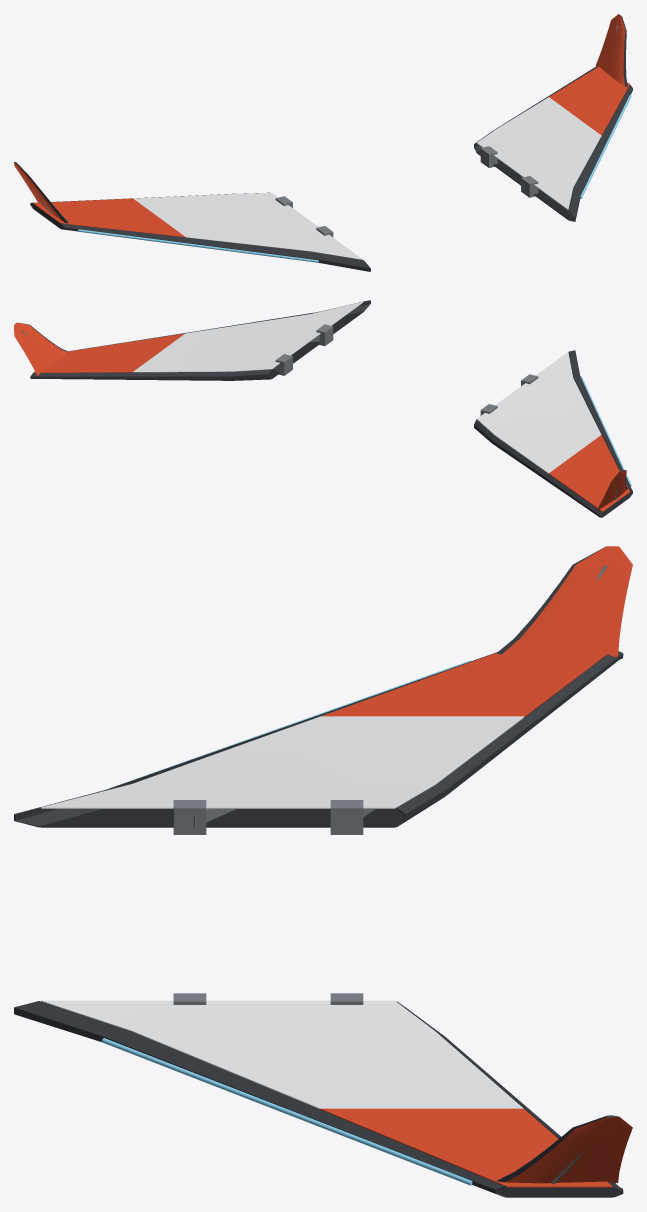
Rendered from vortex_wing_glide.fbx.
3 renders of one model, top to bottom at view 1: azimuth 30°, elevation 25°; view 2: azimuth 150°, elevation 25°; view 3: azimuth 270°, elevation 25°, orthographic. The views are drawn at different scales.
Visible parts, largest first — view 1: Wing_Top_L.001, Wing_Top_R.001, Wing_LE_L.001, Wing_Glide_Extra_R, Wing_Glide_Extra_L, Wing_LE_R.001, Wing_Bottom_R.001, Wing_Structure_R.001; view 2: Wing_Top_L.001, Wing_Top_R.001, Wing_TE_R.001, Wing_Glide_Extra_R, Wing_TE_L.001, Wing_LE_L.001, Wing_Glide_Extra_L, Wing_Structure_R.001, Wing_Bottom_R.001, Wing_LE_R.001; view 3: Wing_Top_R.001, Wing_Top_L.001, Wing_Glide_Extra_L, Wing_Glide_Extra_R, Wing_LE_R.001, Wing_Bottom_L.001, Wing_TE_L.001, Wing_Structure_L.001, Wing_LE_L.001, Wing_Tip_R.001.
Part boxes in pixels (left/top/right/bottom): Wing_Top_L.001: left=33, top=192, right=362, bottom=259; Wing_Top_R.001: left=476, top=66, right=629, bottom=209; Wing_LE_L.001: left=61, top=223, right=370, bottom=271; Wing_Glide_Extra_R: left=580, top=14, right=631, bottom=198; Wing_Glide_Extra_L: left=14, top=161, right=318, bottom=262; Wing_LE_R.001: left=568, top=85, right=632, bottom=221; Wing_Bottom_R.001: left=477, top=91, right=626, bottom=219; Wing_Structure_R.001: left=480, top=94, right=624, bottom=197; Wing_Top_L.001: left=476, top=352, right=629, bottom=511; Wing_Top_R.001: left=33, top=302, right=363, bottom=372; Wing_TE_R.001: left=30, top=369, right=271, bottom=380; Wing_Glide_Extra_R: left=14, top=319, right=272, bottom=375; Wing_TE_L.001: left=474, top=419, right=602, bottom=517; Wing_LE_L.001: left=568, top=350, right=632, bottom=496; Wing_Glide_Extra_L: left=580, top=376, right=631, bottom=511; Wing_Structure_R.001: left=272, top=324, right=333, bottom=375; Wing_Bottom_R.001: left=269, top=311, right=363, bottom=379; Wing_LE_R.001: left=69, top=300, right=370, bottom=351; Wing_Top_R.001: left=41, top=1000, right=612, bottom=1187; Wing_Top_L.001: left=41, top=653, right=606, bottom=808; Wing_Glide_Extra_L: left=105, top=546, right=632, bottom=789; Wing_Glide_Extra_R: left=102, top=1038, right=632, bottom=1185; Wing_LE_R.001: left=14, top=1001, right=505, bottom=1197; Wing_Bottom_L.001: left=41, top=702, right=544, bottom=827; Wing_TE_L.001: left=396, top=651, right=623, bottom=826; Wing_Structure_L.001: left=173, top=661, right=598, bottom=834; Wing_LE_L.001: left=14, top=652, right=497, bottom=827; Wing_Tip_R.001: left=496, top=1184, right=622, bottom=1197.
Bounding box in the file's own units: 414 × 34.49 × 190.
